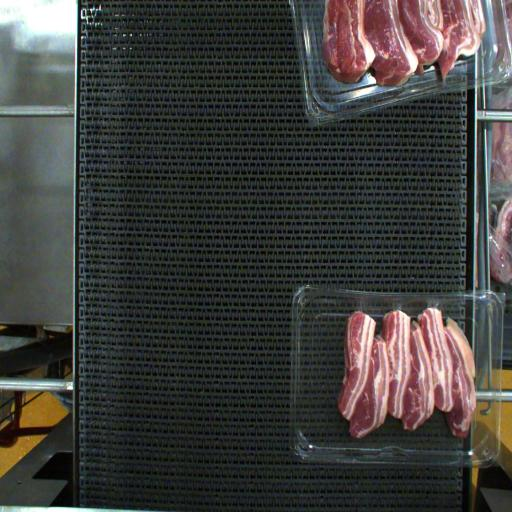packaging-error: (422, 287, 447, 320), (389, 292, 410, 324)
